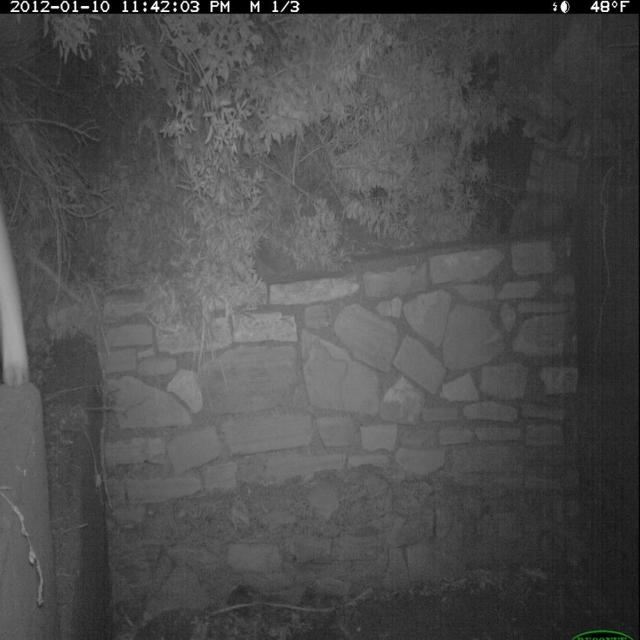bobcat: (1, 181, 37, 400)
